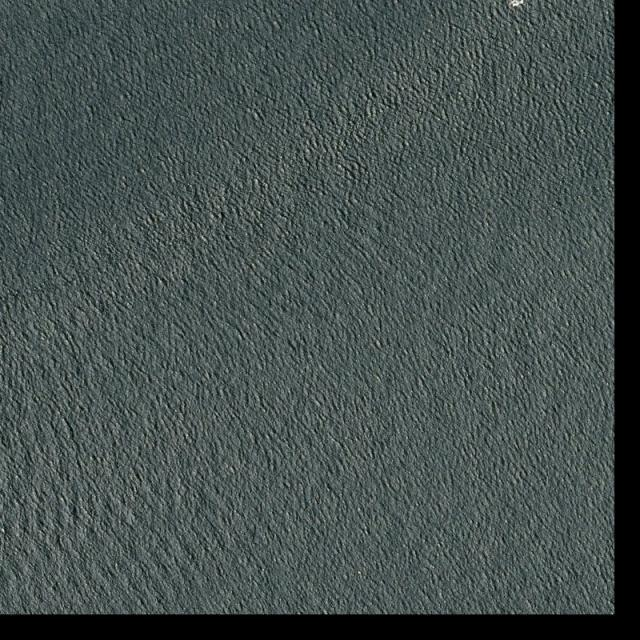ship: (511, 0, 519, 9)
